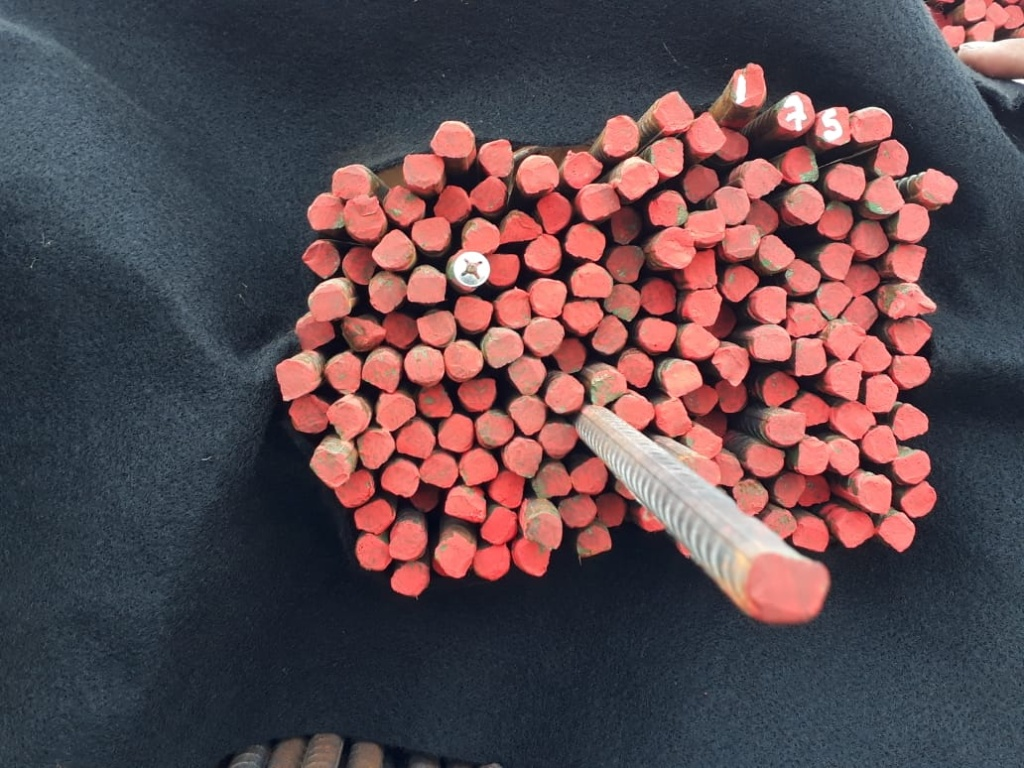dipstick: (739, 553, 831, 625), (276, 359, 322, 402), (381, 186, 425, 229), (370, 229, 415, 269), (343, 195, 385, 237), (435, 533, 474, 578), (686, 112, 727, 153), (653, 91, 694, 132), (878, 510, 916, 554), (342, 314, 387, 351), (864, 175, 905, 215), (656, 228, 696, 268), (288, 394, 328, 434), (528, 278, 567, 319), (326, 402, 367, 441), (617, 162, 660, 199), (431, 121, 474, 158), (731, 63, 767, 107), (563, 150, 603, 189), (564, 223, 604, 262), (602, 115, 640, 156), (823, 324, 865, 361), (835, 402, 877, 439), (712, 346, 749, 388), (887, 289, 937, 320), (459, 448, 498, 487), (356, 430, 395, 469), (893, 318, 933, 356), (786, 184, 824, 224), (648, 189, 688, 227), (507, 357, 547, 395), (662, 361, 703, 398), (506, 437, 542, 479), (745, 160, 784, 198), (524, 512, 563, 550), (508, 395, 546, 434), (485, 330, 524, 368), (532, 461, 571, 499), (310, 450, 349, 488), (362, 354, 400, 393), (335, 470, 375, 507), (331, 165, 372, 201), (403, 154, 445, 189), (778, 92, 816, 130), (854, 336, 892, 374), (603, 284, 641, 322), (837, 510, 874, 549), (825, 163, 864, 200), (713, 186, 750, 225), (591, 314, 628, 353), (606, 245, 645, 282), (545, 375, 584, 412), (437, 413, 474, 452), (396, 421, 435, 458), (462, 217, 501, 254), (536, 193, 572, 233), (445, 339, 481, 379), (432, 185, 472, 221), (851, 107, 892, 142), (571, 263, 612, 298), (447, 249, 482, 290), (765, 411, 807, 445), (685, 210, 727, 244), (524, 232, 561, 270), (480, 508, 518, 545), (307, 193, 345, 230), (892, 402, 928, 441), (721, 266, 760, 302), (655, 398, 691, 437), (412, 216, 451, 252), (303, 239, 339, 278), (752, 326, 792, 361), (404, 349, 444, 384), (524, 320, 565, 354), (785, 304, 827, 337), (500, 213, 543, 245), (489, 470, 526, 507), (473, 544, 510, 581), (370, 277, 407, 314), (862, 425, 898, 463), (582, 185, 620, 221), (538, 423, 576, 459), (520, 157, 558, 193), (819, 241, 854, 280), (817, 281, 852, 320), (721, 224, 760, 259), (681, 323, 720, 358), (608, 205, 643, 244), (830, 361, 864, 401), (615, 395, 655, 429), (563, 299, 603, 333), (479, 139, 513, 179), (416, 312, 456, 346), (310, 288, 350, 322), (684, 248, 717, 289), (921, 168, 958, 204), (732, 480, 769, 516), (759, 234, 795, 271), (571, 457, 607, 494), (355, 533, 391, 570), (892, 244, 927, 282), (840, 296, 878, 331), (853, 219, 888, 257), (816, 106, 850, 145), (858, 475, 892, 514), (790, 393, 829, 427), (326, 355, 360, 394), (498, 288, 531, 328), (453, 296, 493, 329), (873, 140, 909, 176), (684, 166, 720, 202), (590, 370, 626, 406), (758, 235, 795, 270), (639, 280, 676, 315), (560, 494, 597, 529), (895, 203, 929, 241), (893, 355, 931, 389), (826, 438, 860, 476), (651, 138, 685, 176), (639, 318, 677, 352), (296, 318, 334, 352), (456, 378, 495, 411), (376, 396, 415, 429), (840, 265, 881, 296), (894, 450, 930, 485), (900, 482, 936, 517), (817, 201, 853, 236), (792, 516, 828, 551), (785, 258, 821, 293), (687, 289, 721, 326), (354, 498, 391, 532), (866, 375, 899, 413), (793, 337, 826, 375), (389, 526, 427, 559), (745, 445, 784, 477), (420, 455, 459, 487), (785, 147, 819, 183), (762, 373, 798, 407), (478, 412, 514, 446), (383, 312, 417, 348), (745, 198, 778, 235), (418, 383, 453, 417), (444, 495, 485, 524), (617, 354, 653, 387), (576, 525, 613, 557), (389, 567, 431, 595), (713, 379, 747, 413), (796, 440, 829, 475), (715, 125, 748, 160), (551, 339, 584, 374), (471, 176, 504, 211), (755, 286, 786, 323), (518, 540, 550, 575), (761, 510, 798, 540), (407, 275, 445, 304), (798, 473, 830, 507), (774, 473, 806, 507), (345, 248, 376, 283), (487, 253, 519, 286), (713, 452, 743, 487), (687, 426, 722, 456), (684, 384, 717, 415), (706, 303, 735, 337), (595, 494, 625, 526), (689, 457, 719, 485), (410, 484, 438, 511), (941, 24, 964, 48), (986, 3, 1009, 26), (640, 507, 662, 531), (616, 478, 636, 503), (963, 1, 986, 21), (973, 22, 995, 42), (1004, 5, 1021, 28)
